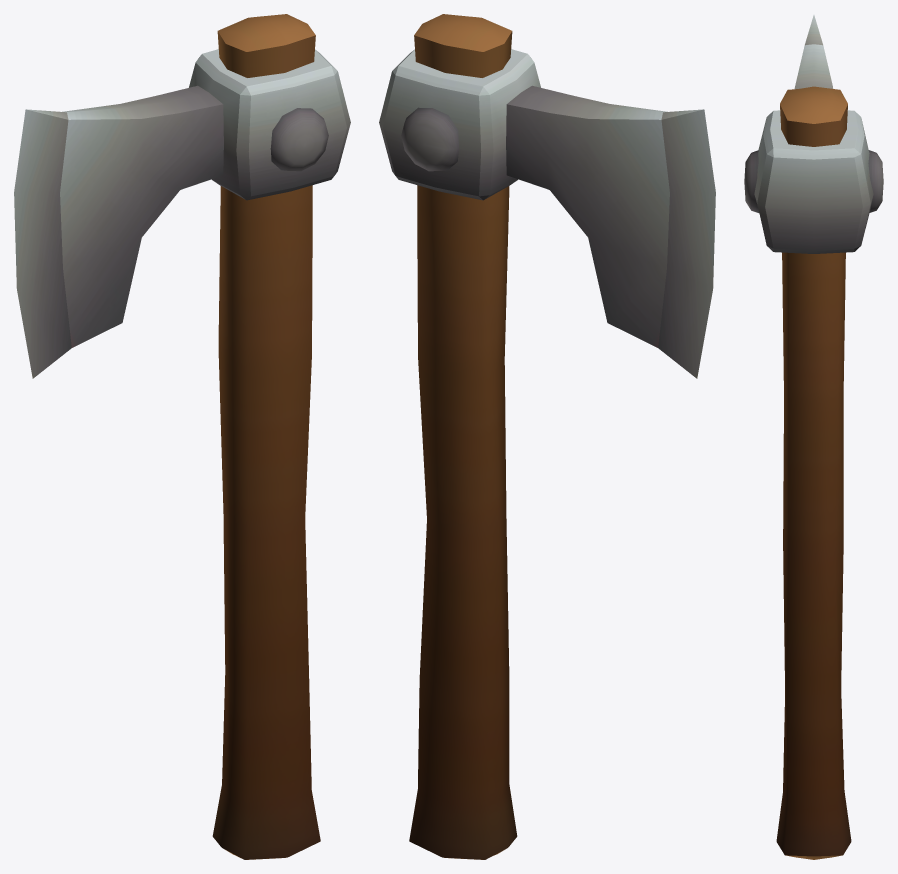
File: Axe_03.glb
3 views of the same model, side by side, from view 1: azimuth 30°, elevation 25°; view 2: azimuth 150°, elevation 25°; view 3: azimuth 270°, elevation 25° (orthographic). The views are drawn at different scales.
Visible parts, largest first — view 1: Axe_03; view 2: Axe_03; view 3: Axe_03.
Boxes of the visible parts, x1=… form: Axe_03: x1=14, y1=14, x2=350, y2=859; Axe_03: x1=379, y1=14, x2=715, y2=859; Axe_03: x1=744, y1=15, x2=883, y2=859.
Bounding box in the file's own units: 0.4119 × 1.03 × 0.1729.
Materials: 1 (1 with a texture image).
